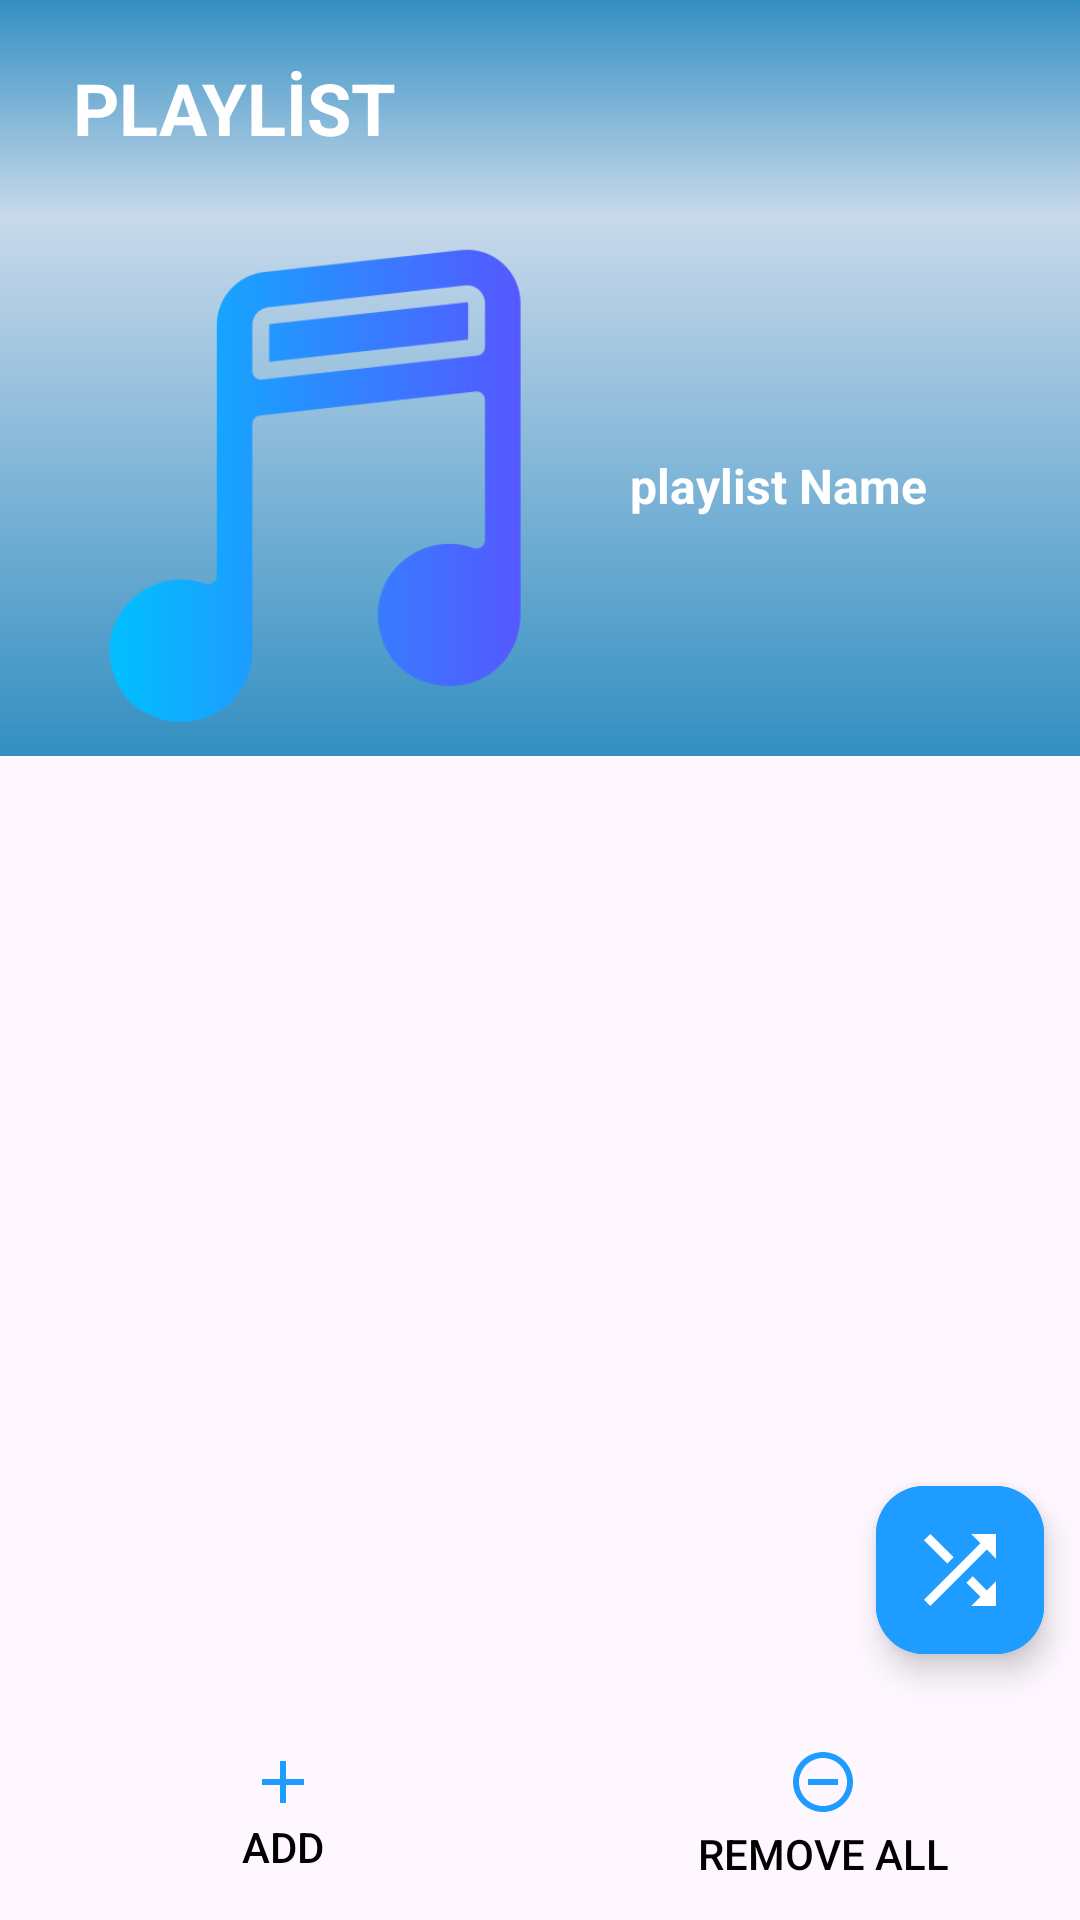

Screen size 1080 × 1920. Icon name, then its box in pixels as [x1, y1, x2, y2]:
Shuffle: [876, 1486, 1044, 1654]
